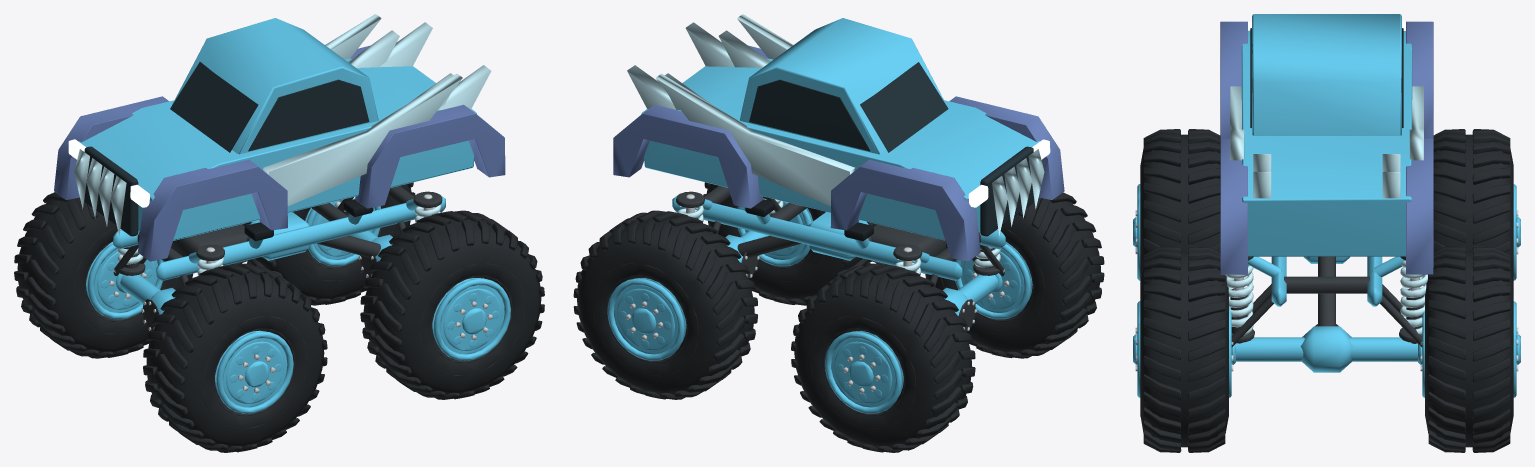
The model's file is IceFreeze.fbx.
3 renders of one model, left to right at view 1: azimuth 30°, elevation 25°; view 2: azimuth 150°, elevation 25°; view 3: azimuth 270°, elevation 25°, orthographic. The views are drawn at different scales.
Parts seen in each view (by area): view 1: IceFreeze_LOD0_sprung_body_Geometry, IceFreeze_LOD0_RL_Spin_Geometry, IceFreeze_LOD0_FL_Spin_Geometry, IceFreeze_LOD0_FR_Spin_Geometry, IceFreeze_LOD0_RR_Spin_Geometry, IceFreeze_LOD0_FRONT_axle_Geometry, IceFreeze_LOD0_Root_Geometry, IceFreeze_LOD0_REAR_axle_Geometry, IceFreeze_LOD0_FRONT_shock_-1_Geometry, IceFreeze_LOD0_REAR_shock_-1_Geometry; view 2: IceFreeze_LOD0_sprung_body_Geometry, IceFreeze_LOD0_FR_Spin_Geometry, IceFreeze_LOD0_RR_Spin_Geometry, IceFreeze_LOD0_FL_Spin_Geometry, IceFreeze_LOD0_RL_Spin_Geometry, IceFreeze_LOD0_FRONT_axle_Geometry, IceFreeze_LOD0_Root_Geometry, IceFreeze_LOD0_REAR_axle_Geometry, IceFreeze_LOD0_FRONT_shock_1_Geometry, IceFreeze_LOD0_REAR_shock_1_Geometry; view 3: IceFreeze_LOD0_sprung_body_Geometry, IceFreeze_LOD0_RL_Spin_Geometry, IceFreeze_LOD0_RR_Spin_Geometry, IceFreeze_LOD0_FR_Spin_Geometry, IceFreeze_LOD0_FL_Spin_Geometry, IceFreeze_LOD0_REAR_axle_Geometry, IceFreeze_LOD0_Root_Geometry, IceFreeze_LOD0_REAR_shock_1_Geometry, IceFreeze_LOD0_REAR_shock_-1_Geometry.
Part boxes in pixels (x1=…): IceFreeze_LOD0_sprung_body_Geometry: x1=54, y1=14, x2=505, y2=280; IceFreeze_LOD0_RL_Spin_Geometry: x1=360, y1=210, x2=544, y2=399; IceFreeze_LOD0_FL_Spin_Geometry: x1=143, y1=263, x2=327, y2=452; IceFreeze_LOD0_FR_Spin_Geometry: x1=14, y1=192, x2=192, y2=358; IceFreeze_LOD0_RR_Spin_Geometry: x1=242, y1=182, x2=415, y2=305; IceFreeze_LOD0_FRONT_axle_Geometry: x1=120, y1=274, x2=175, y2=331; IceFreeze_LOD0_Root_Geometry: x1=113, y1=197, x2=405, y2=286; IceFreeze_LOD0_REAR_axle_Geometry: x1=349, y1=230, x2=392, y2=278; IceFreeze_LOD0_FRONT_shock_-1_Geometry: x1=196, y1=244, x2=224, y2=275; IceFreeze_LOD0_REAR_shock_-1_Geometry: x1=413, y1=191, x2=442, y2=222; IceFreeze_LOD0_sprung_body_Geometry: x1=613, y1=14, x2=1064, y2=280; IceFreeze_LOD0_FR_Spin_Geometry: x1=791, y1=263, x2=975, y2=452; IceFreeze_LOD0_RR_Spin_Geometry: x1=573, y1=210, x2=757, y2=399; IceFreeze_LOD0_FL_Spin_Geometry: x1=923, y1=192, x2=1104, y2=358; IceFreeze_LOD0_RL_Spin_Geometry: x1=703, y1=182, x2=876, y2=305; IceFreeze_LOD0_FRONT_axle_Geometry: x1=943, y1=274, x2=997, y2=331; IceFreeze_LOD0_Root_Geometry: x1=697, y1=197, x2=1004, y2=286; IceFreeze_LOD0_REAR_axle_Geometry: x1=725, y1=230, x2=768, y2=278; IceFreeze_LOD0_FRONT_shock_1_Geometry: x1=893, y1=244, x2=922, y2=274; IceFreeze_LOD0_REAR_shock_1_Geometry: x1=676, y1=191, x2=704, y2=221; IceFreeze_LOD0_sprung_body_Geometry: x1=1220, y1=14, x2=1433, y2=306; IceFreeze_LOD0_RL_Spin_Geometry: x1=1133, y1=246, x2=1235, y2=452; IceFreeze_LOD0_RR_Spin_Geometry: x1=1418, y1=246, x2=1520, y2=452; IceFreeze_LOD0_FR_Spin_Geometry: x1=1422, y1=129, x2=1520, y2=281; IceFreeze_LOD0_FL_Spin_Geometry: x1=1133, y1=129, x2=1220, y2=281; IceFreeze_LOD0_REAR_axle_Geometry: x1=1236, y1=324, x2=1417, y2=372; IceFreeze_LOD0_Root_Geometry: x1=1231, y1=256, x2=1422, y2=347; IceFreeze_LOD0_REAR_shock_1_Geometry: x1=1399, y1=256, x2=1427, y2=342; IceFreeze_LOD0_REAR_shock_-1_Geometry: x1=1225, y1=256, x2=1254, y2=342.
Size of the model in its own units: 517 by 417 by 414.
